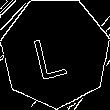L_N: (34, 24, 76, 81)
